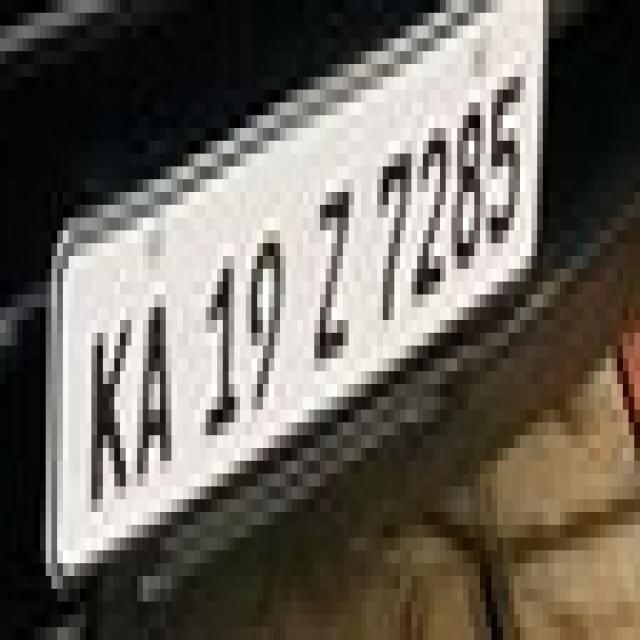1: (200, 246, 240, 443)
5: (488, 71, 526, 251)
7: (372, 138, 412, 338)
8: (450, 91, 484, 282)
9: (244, 232, 286, 426)
A: (132, 296, 176, 486)
K: (84, 312, 129, 512)
Z: (308, 176, 356, 374)
